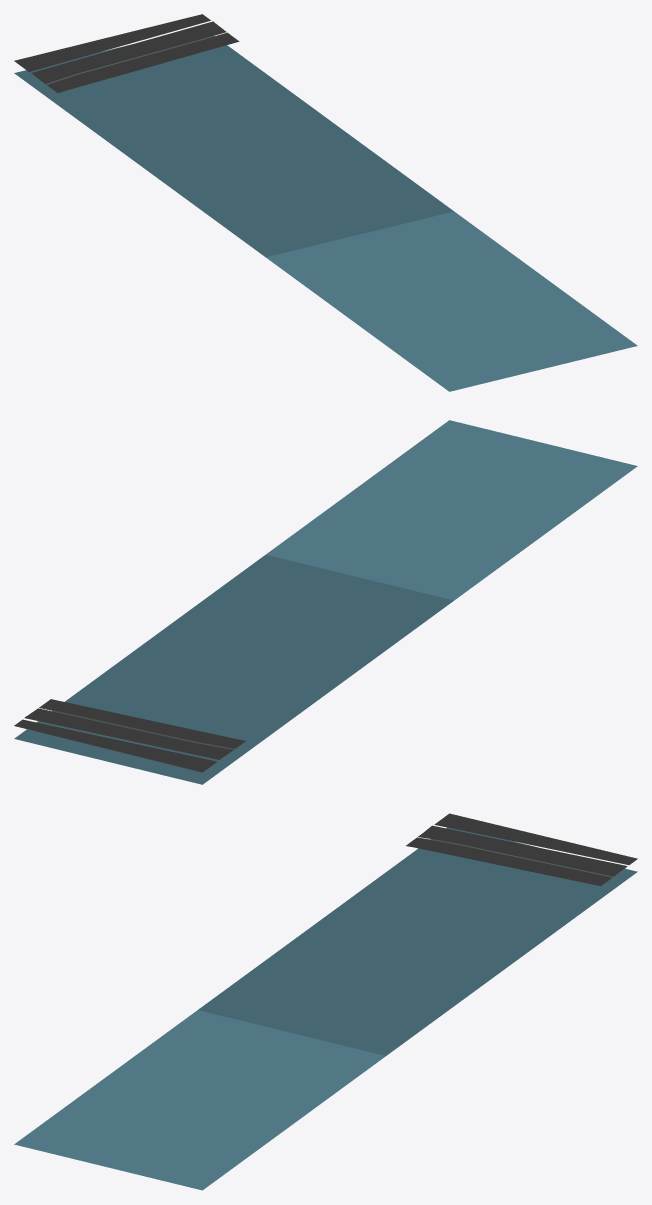
3 renders of one model, top to bottom at view 1: azimuth 30°, elevation 25°; view 2: azimuth 150°, elevation 25°; view 3: azimuth 330°, elevation 25°, orthographic.
Visible parts, largest first — view 1: append:c_p06_m08, c_p06_m08; view 2: append:c_p06_m08, c_p06_m08; view 3: append:c_p06_m08, c_p06_m08.
Boxes of the visible parts, left/top/right/bottom form: append:c_p06_m08: left=14, top=14, right=453, bottom=257; c_p06_m08: left=266, top=211, right=637, bottom=391; append:c_p06_m08: left=14, top=554, right=453, bottom=784; c_p06_m08: left=266, top=420, right=637, bottom=600; append:c_p06_m08: left=198, top=813, right=637, bottom=1055; c_p06_m08: left=14, top=1010, right=385, bottom=1190.
Size of the model in its own units: 32 by 2.22 by 128.
